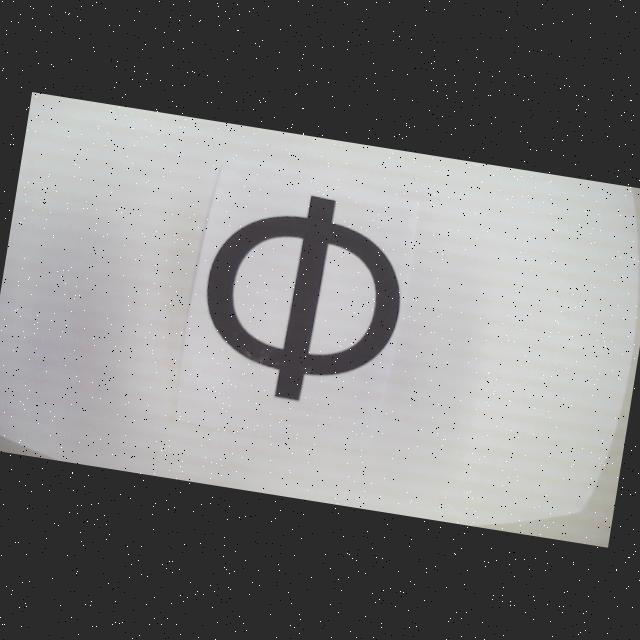PHI: (192, 180, 417, 415)
